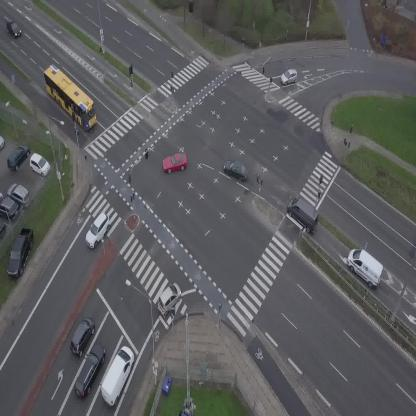bus: (35, 62, 106, 132)
car: (70, 341, 110, 402), (65, 314, 100, 358), (79, 211, 116, 250), (152, 280, 187, 318), (221, 157, 252, 183), (160, 151, 189, 174), (3, 19, 25, 40), (279, 69, 299, 86)
lorry: (95, 344, 140, 408), (341, 244, 390, 290), (281, 191, 327, 236)
